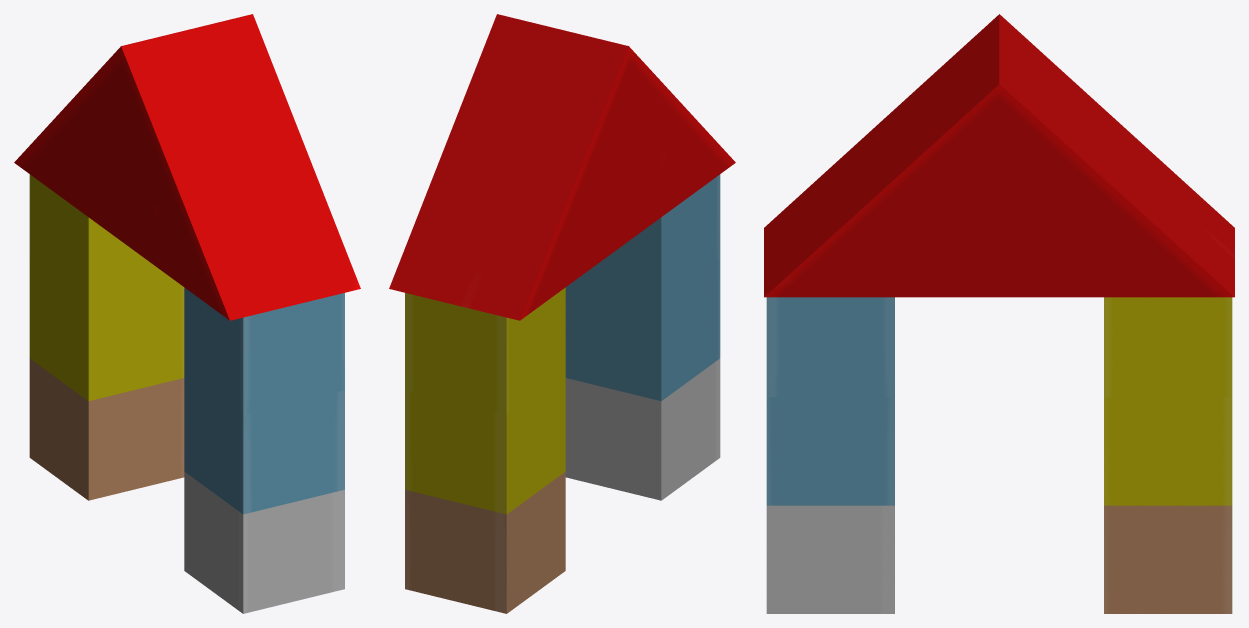
File: tumiki.fbx
The picture shows the model from 3 angles, left to right: view 1: azimuth 30°, elevation 25°; view 2: azimuth 150°, elevation 25°; view 3: azimuth 270°, elevation 25°; orthographic projection. The views are drawn at different scales.
Parts seen in each view (by area): view 1: pCube4; view 2: pCube4; view 3: pCube4.
Boxes of the visible parts, x1,y1,x2,y2 form: pCube4: [14, 14, 360, 613]; pCube4: [389, 14, 735, 613]; pCube4: [764, 14, 1234, 613].
Bounding box in the file's own units: 0.7569 × 2.71 × 2.15.
